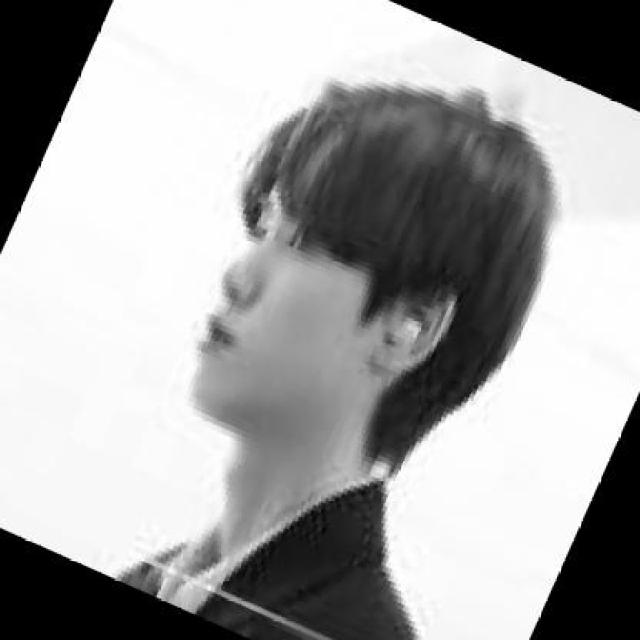earphone: (392, 308, 436, 363)
